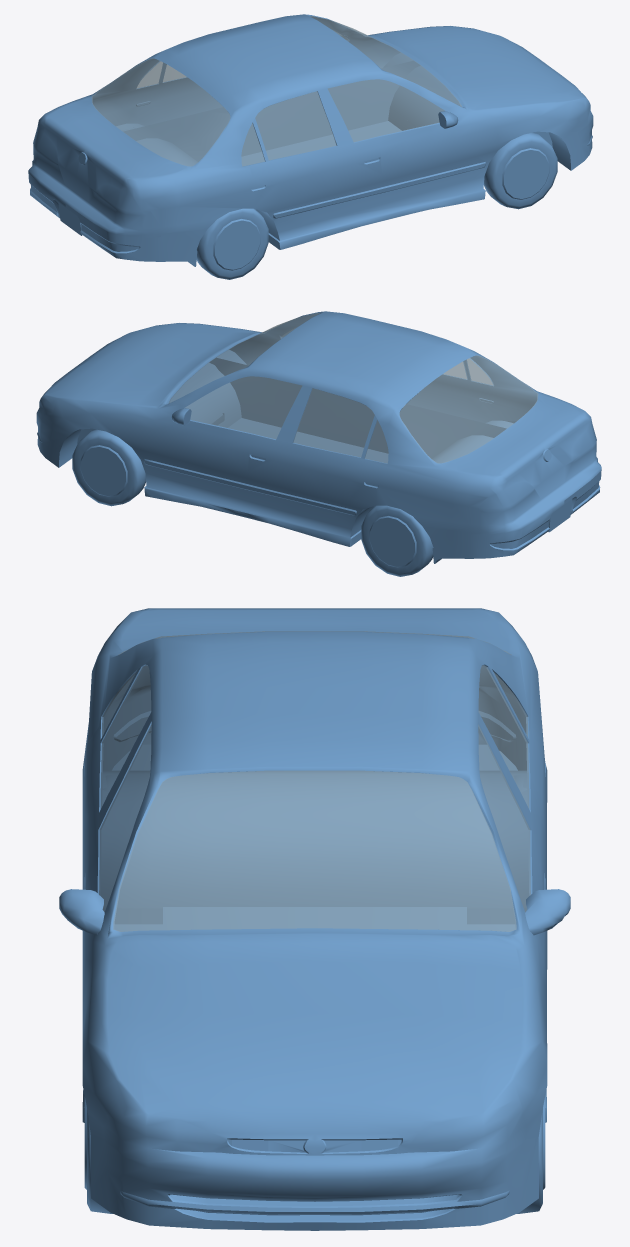
Rendered from car.glb.
3 views of the same model, one above another, from view 1: azimuth 30°, elevation 25°; view 2: azimuth 150°, elevation 25°; view 3: azimuth 270°, elevation 25° (orthographic). The views are drawn at different scales.
Visible parts, largest first — view 1: Object_3, Object_2; view 2: Object_3, Object_2; view 3: Object_3, Object_2.
Boxes of the visible parts, x1,y1,x2,y2 form: Object_3: [28, 14, 593, 279]; Object_2: [91, 16, 461, 166]; Object_3: [36, 311, 601, 576]; Object_2: [168, 313, 538, 463]; Object_3: [59, 608, 570, 1230]; Object_2: [99, 631, 530, 931].
Size of the model in its own units: 5 by 1.56 by 2.22.
